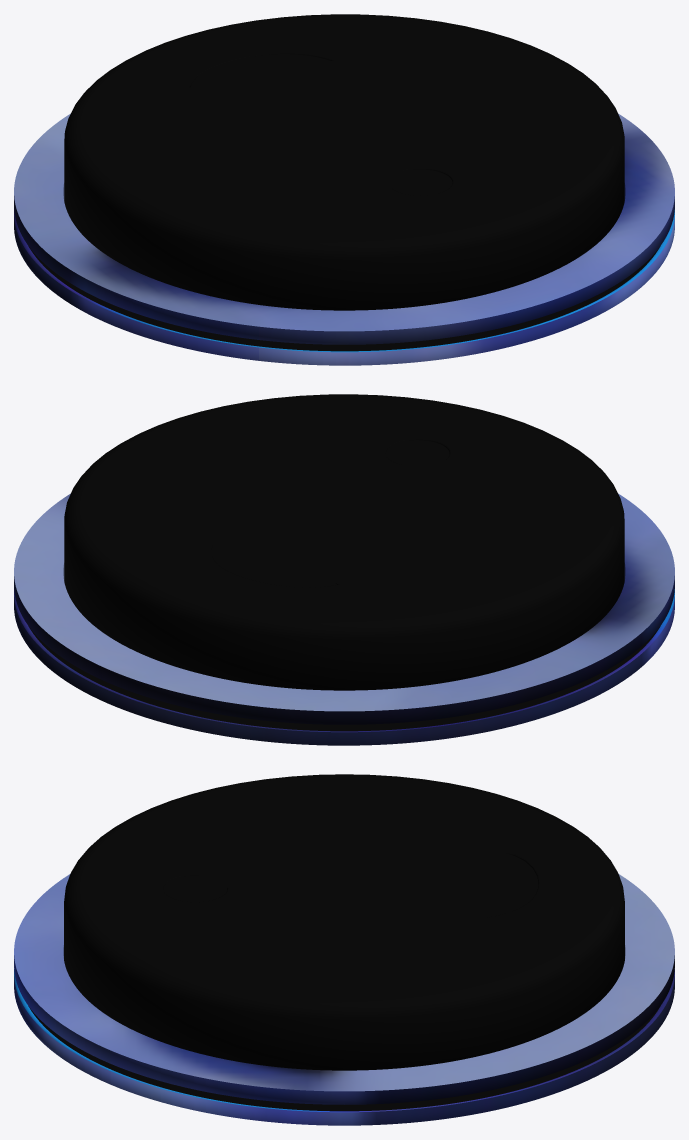
The model's file is Button.fbx.
3 renders of one model, top to bottom at view 1: azimuth 30°, elevation 25°; view 2: azimuth 150°, elevation 25°; view 3: azimuth 270°, elevation 25°, orthographic.
Visible parts, largest first — view 1: Button_Top, Button_Base; view 2: Button_Top, Button_Base; view 3: Button_Top, Button_Base.
Part boxes in pixels (x1,y1,x2,y2): Button_Top: (64, 14, 624, 310); Button_Base: (14, 113, 674, 365); Button_Top: (64, 394, 624, 690); Button_Base: (14, 493, 674, 745); Button_Top: (64, 774, 624, 1070); Button_Base: (14, 874, 674, 1125).
Size of the model in its own units: 114 by 18.74 by 114.
